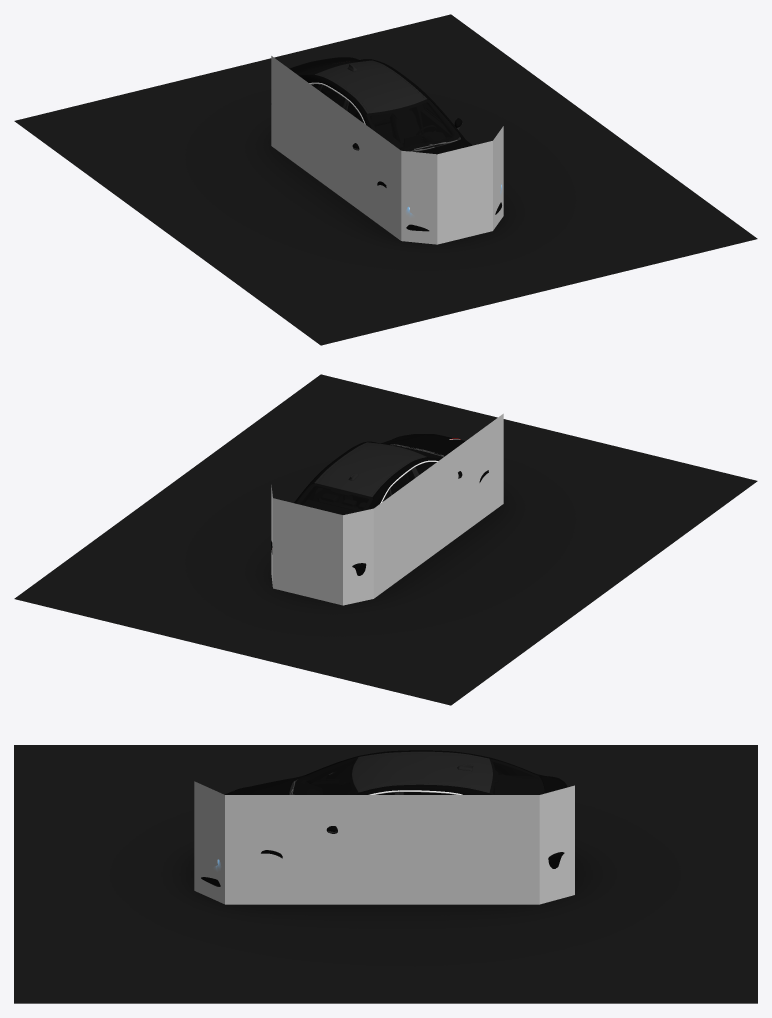
File: EMQ5.glb
3 views of the same model, one above another, from view 1: azimuth 30°, elevation 25°; view 2: azimuth 150°, elevation 25°; view 3: azimuth 270°, elevation 25° (orthographic). The views are drawn at different scales.
Parts seen in each view (by area): view 1: Mesh_Ground, Col_Hide_EQM5, Mesh_Heijiao, Mesh_Boli, Mesh_Red; view 2: Mesh_Ground, Col_Hide_EQM5, Mesh_Heijiao, Mesh_Boli, Mesh_Red; view 3: Mesh_Ground, Col_Hide_EQM5, Mesh_Heijiao, Mesh_Boli, Mesh_Red.
Boxes of the visible parts, x1,y1,x2,y2 form: Mesh_Ground: (14,14,757,345); Col_Hide_EQM5: (271,56,503,244); Mesh_Heijiao: (297,60,461,231); Mesh_Boli: (297,59,459,151); Mesh_Red: (271,57,501,231); Mesh_Ground: (14,374,757,705); Col_Hide_EQM5: (271,413,503,605); Mesh_Heijiao: (297,442,461,514); Mesh_Boli: (296,442,443,514); Mesh_Red: (271,434,488,575); Mesh_Ground: (14,745,757,1003); Col_Hide_EQM5: (194,781,574,904); Mesh_Heijiao: (206,751,544,886); Mesh_Boli: (292,757,544,794); Mesh_Red: (201,750,567,886).
Size of the model in its own units: 8.06 by 1.62 by 9.8.
Materials: 14 (6 with a texture image).
